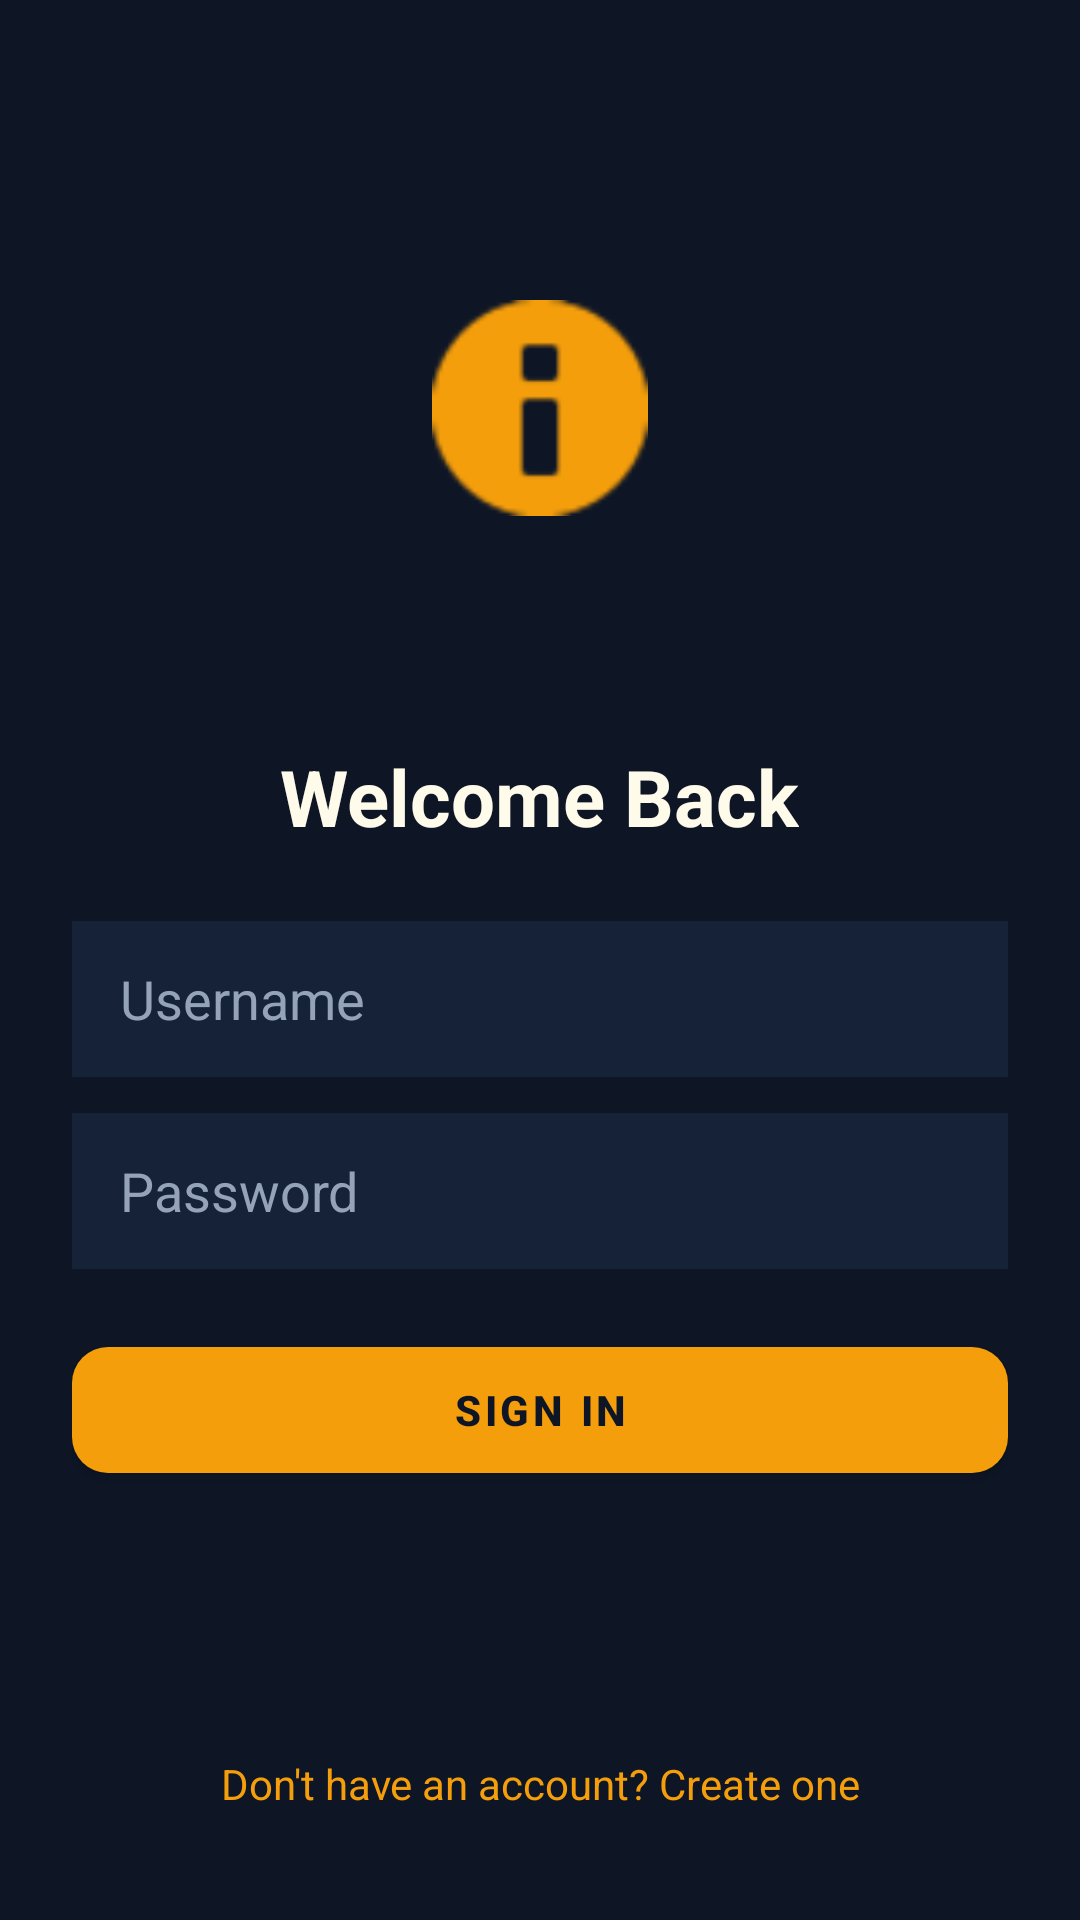

Icon click points for this 1080*1920 phone screenshot, format point (x, y):
info: point (540, 408)
